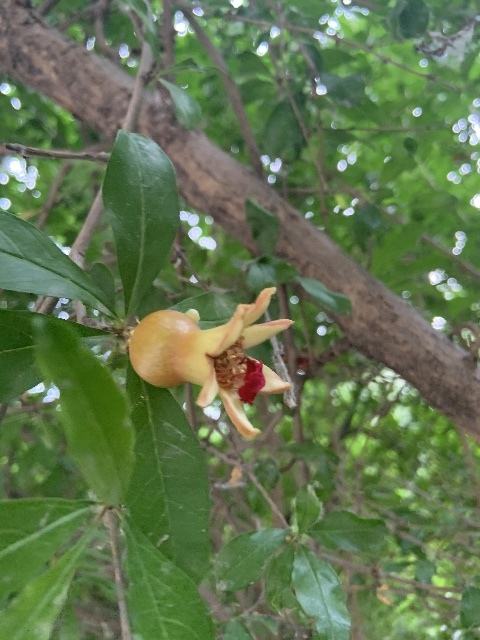early-fruit: (128, 286, 293, 440)
